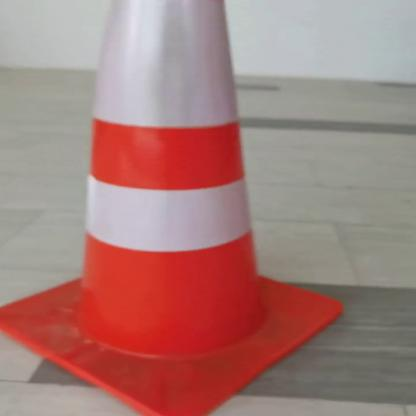cone: (1, 0, 349, 416)
